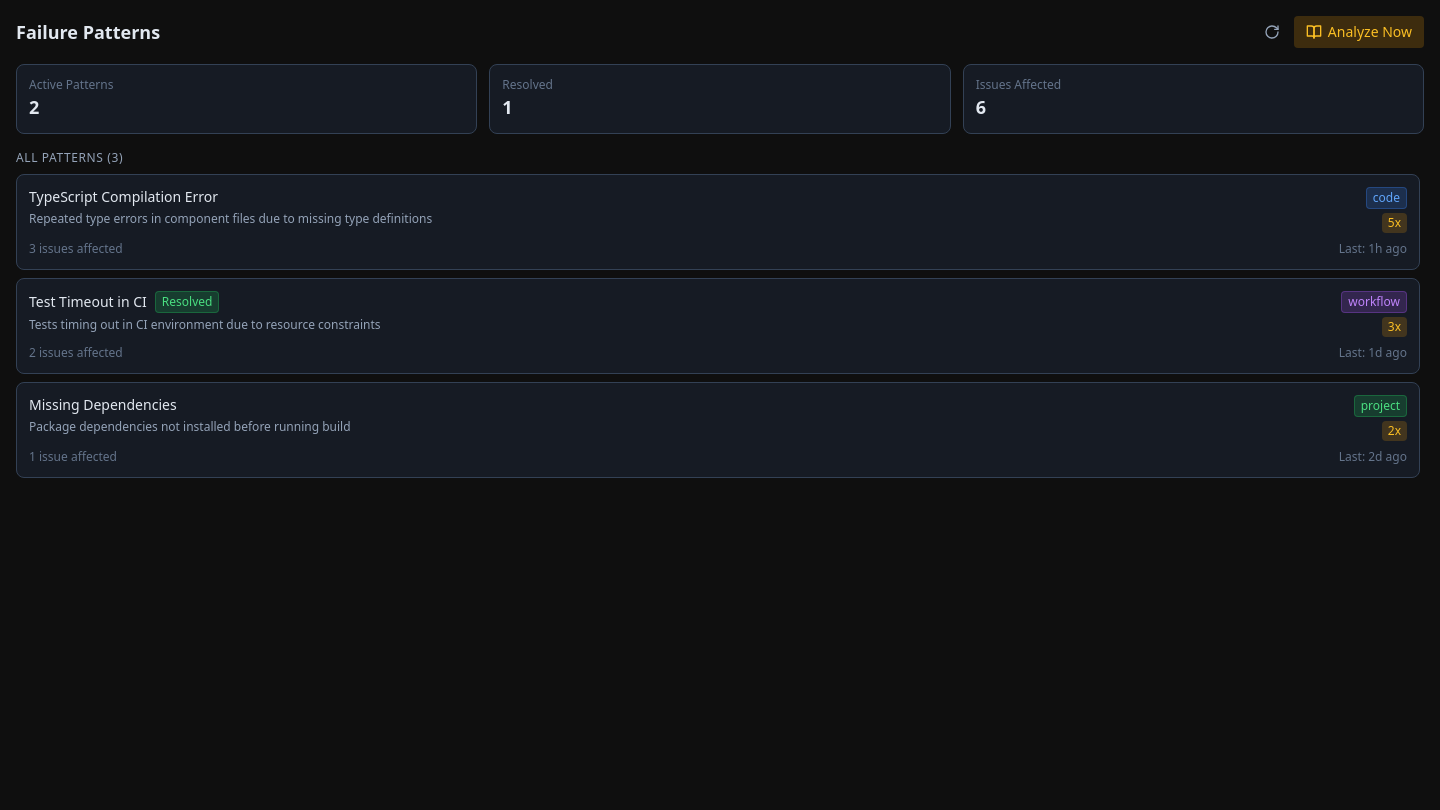
PatternDashboard › Analyze Action › should add new patterns after analysis
Expected: the number of buttons with test id "pattern-card" is 3, [16, 174, 1420, 270]; [16, 278, 1420, 374]; [16, 382, 1420, 478]
Click the button with test id "analyze-button" at (1359, 32), box [1294, 16, 1424, 48]
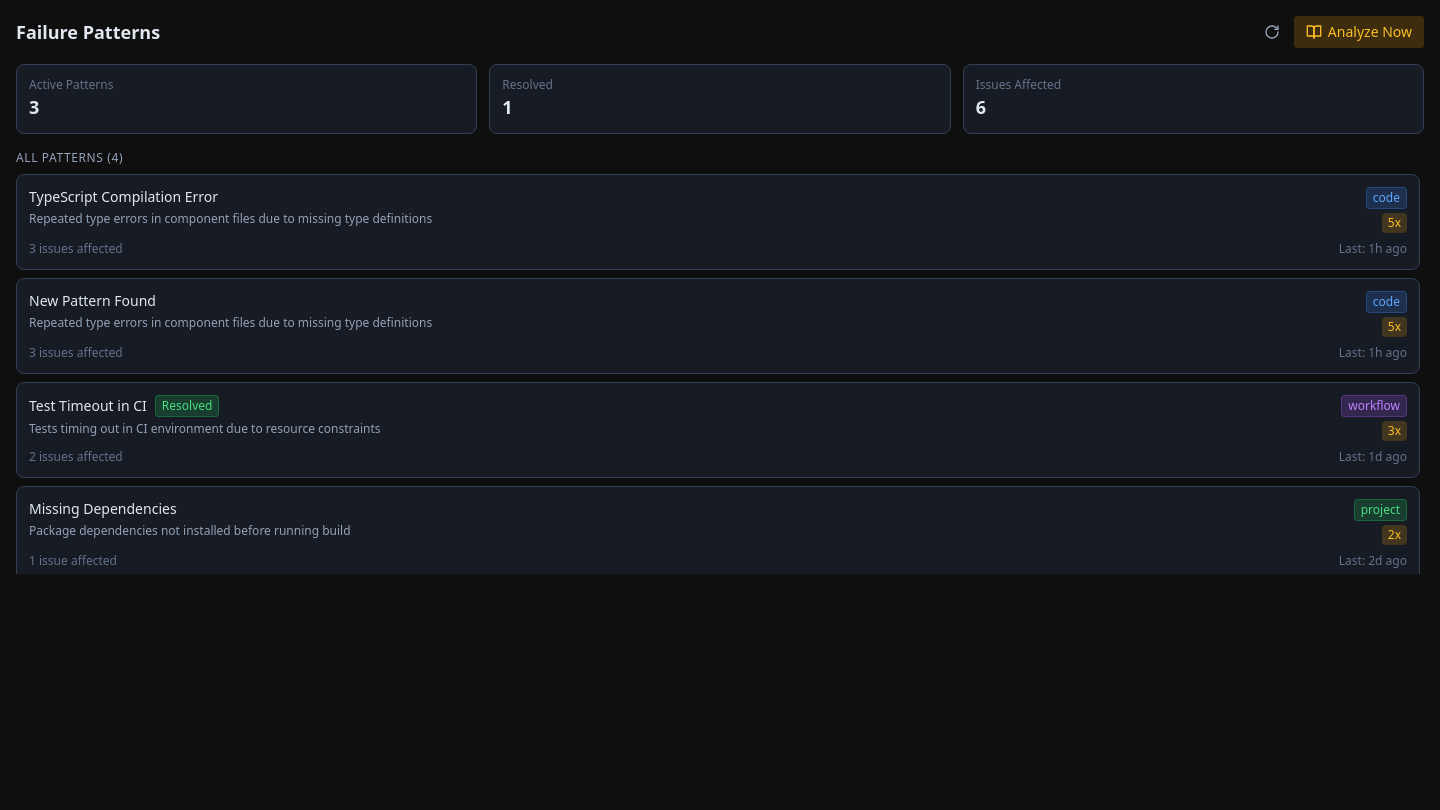
Result: the number of buttons with test id "pattern-card" is 4 at [16, 174, 1420, 270]; [16, 278, 1420, 374]; [16, 382, 1420, 478]; [16, 486, 1420, 574]
Result: the text "New Pattern Found" is shown at [29, 291, 156, 311]
